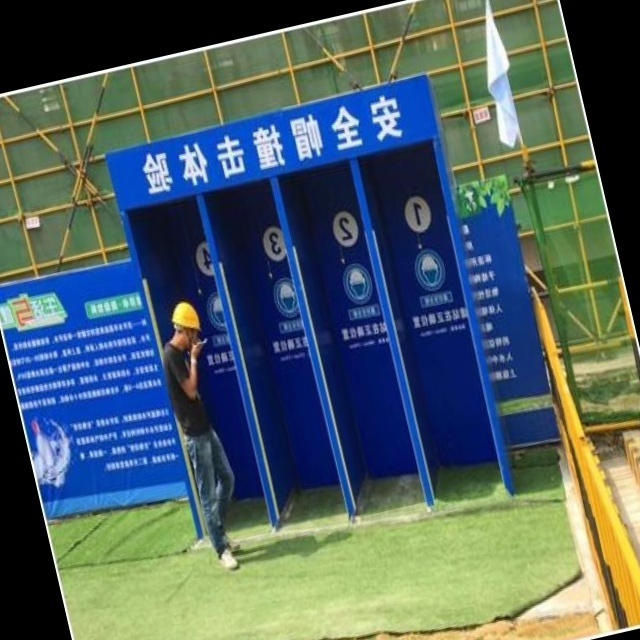Con_Casco: (171, 298, 205, 347)
